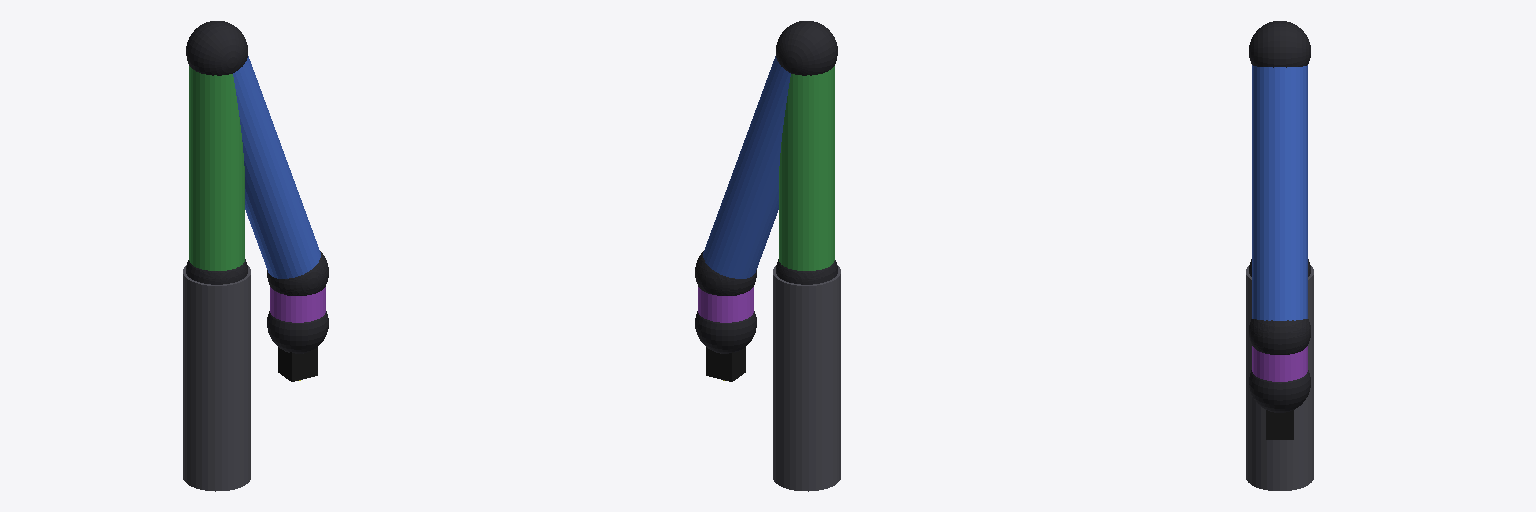
robot.urdf — uf850_primitive:
<?xml version="1.0"?>
<robot name="uf850_primitive">
  <link name="link_base">
    <visual><origin xyz="0.0000 0.0000 0.1820" rpy="0 0.0000 0.0000"/><geometry><cylinder radius="0.0550" length="0.3640"/></geometry><material name="seg"><color rgba="0.35 0.35 0.38 1"/></material></visual>
    <collision><origin xyz="0.0000 0.0000 0.1820" rpy="0 0.0000 0.0000"/><geometry><cylinder radius="0.0550" length="0.3640"/></geometry></collision>
    <inertial><mass value="0.5"/><inertia ixx="0.002" iyy="0.002" izz="0.002" ixy="0" ixz="0" iyz="0"/></inertial>
  </link>
  <joint name="joint1" type="revolute">
    <parent link="link_base"/><child link="link1"/>
    <origin xyz="0.0000 0.0000 0.3640" rpy="0.0000 0.0000 0.0000"/>
    <axis xyz="0 0 1"/>
    <limit lower="-3.11018" upper="3.11018" effort="200" velocity="3.14"/>
  </joint>
  <link name="link1">
    <visual><geometry><sphere radius="0.0500"/></geometry><material name="knk"><color rgba="0.2 0.2 0.22 1"/></material></visual>
    <inertial><mass value="0.5"/><inertia ixx="0.002" iyy="0.002" izz="0.002" ixy="0" ixz="0" iyz="0"/></inertial>
  </link>
  <joint name="joint2" type="revolute">
    <parent link="link1"/><child link="link2"/>
    <origin xyz="0.0000 0.0000 0.0000" rpy="1.5708 -1.5708 0.0000"/>
    <axis xyz="0 0 1"/>
    <limit lower="-2.30383" upper="2.30383" effort="200" velocity="3.14"/>
  </joint>
  <link name="link2">
    <visual><geometry><sphere radius="0.0500"/></geometry><material name="knk"><color rgba="0.2 0.2 0.22 1"/></material></visual>
    <visual><origin xyz="0.1950 0.0000 0.0000" rpy="0 1.5708 0.0000"/><geometry><cylinder radius="0.0450" length="0.3900"/></geometry><material name="seg"><color rgba="0.30 0.65 0.35 1"/></material></visual>
    <collision><origin xyz="0.1950 0.0000 0.0000" rpy="0 1.5708 0.0000"/><geometry><cylinder radius="0.0450" length="0.3900"/></geometry></collision>
    <inertial><mass value="0.5"/><inertia ixx="0.002" iyy="0.002" izz="0.002" ixy="0" ixz="0" iyz="0"/></inertial>
  </link>
  <joint name="joint3" type="revolute">
    <parent link="link2"/><child link="link3"/>
    <origin xyz="0.3900 0.0000 0.0000" rpy="-3.1416 0.0000 -1.5708"/>
    <axis xyz="0 0 1"/>
    <limit lower="-4.22370" upper="0.06109" effort="200" velocity="3.14"/>
  </joint>
  <link name="link3">
    <visual><geometry><sphere radius="0.0500"/></geometry><material name="knk"><color rgba="0.2 0.2 0.22 1"/></material></visual>
    <visual><origin xyz="0.0750 0.2130 0.0000" rpy="0 1.5708 1.2322"/><geometry><cylinder radius="0.0450" length="0.4516"/></geometry><material name="seg"><color rgba="0.30 0.45 0.80 1"/></material></visual>
    <collision><origin xyz="0.0750 0.2130 0.0000" rpy="0 1.5708 1.2322"/><geometry><cylinder radius="0.0450" length="0.4516"/></geometry></collision>
    <inertial><mass value="0.5"/><inertia ixx="0.002" iyy="0.002" izz="0.002" ixy="0" ixz="0" iyz="0"/></inertial>
  </link>
  <joint name="joint4" type="revolute">
    <parent link="link3"/><child link="link4"/>
    <origin xyz="0.1500 0.4260 0.0000" rpy="-1.5708 0.0000 0.0000"/>
    <axis xyz="0 0 1"/>
    <limit lower="-3.11018" upper="3.11018" effort="200" velocity="3.14"/>
  </joint>
  <link name="link4">
    <visual><geometry><sphere radius="0.0500"/></geometry><material name="knk"><color rgba="0.2 0.2 0.22 1"/></material></visual>
    <inertial><mass value="0.5"/><inertia ixx="0.002" iyy="0.002" izz="0.002" ixy="0" ixz="0" iyz="0"/></inertial>
  </link>
  <joint name="joint5" type="revolute">
    <parent link="link4"/><child link="link5"/>
    <origin xyz="0.0000 0.0000 0.0000" rpy="-1.5708 0.0000 0.0000"/>
    <axis xyz="0 0 1"/>
    <limit lower="-2.16420" upper="2.16420" effort="200" velocity="3.14"/>
  </joint>
  <link name="link5">
    <visual><geometry><sphere radius="0.0500"/></geometry><material name="knk"><color rgba="0.2 0.2 0.22 1"/></material></visual>
    <visual><origin xyz="0.0000 -0.0450 0.0000" rpy="0 1.5708 -1.5708"/><geometry><cylinder radius="0.0450" length="0.0900"/></geometry><material name="seg"><color rgba="0.65 0.35 0.80 1"/></material></visual>
    <collision><origin xyz="0.0000 -0.0450 0.0000" rpy="0 1.5708 -1.5708"/><geometry><cylinder radius="0.0450" length="0.0900"/></geometry></collision>
    <inertial><mass value="0.5"/><inertia ixx="0.002" iyy="0.002" izz="0.002" ixy="0" ixz="0" iyz="0"/></inertial>
  </link>
  <joint name="joint6" type="revolute">
    <parent link="link5"/><child link="link6"/>
    <origin xyz="0.0000 -0.0900 0.0000" rpy="1.5708 0.0000 0.0000"/>
    <axis xyz="0 0 1"/>
    <limit lower="-3.11018" upper="3.11018" effort="200" velocity="3.14"/>
  </joint>
  <link name="link6">
    <visual><geometry><sphere radius="0.0500"/></geometry><material name="knk"><color rgba="0.2 0.2 0.22 1"/></material></visual>
    <inertial><mass value="0.5"/><inertia ixx="0.002" iyy="0.002" izz="0.002" ixy="0" ixz="0" iyz="0"/></inertial>
  </link>
  <joint name="tool_mount" type="fixed">
    <parent link="link6"/><child link="extruder"/>
    <origin xyz="0 0 0" rpy="0.0000 0.0000 0.0000"/>
  </joint>
  <link name="extruder">
    <visual><origin xyz="0 0 0.0450"/><geometry><box size="0.05 0.045 0.0900"/></geometry><material name="ext"><color rgba="0.15 0.15 0.15 1"/></material></visual>
    <inertial><mass value="0.5"/><inertia ixx="0.002" iyy="0.002" izz="0.002" ixy="0" ixz="0" iyz="0"/></inertial>
  </link>
  <joint name="nozzle" type="fixed">
    <parent link="extruder"/><child link="tool_tip"/>
    <origin xyz="0 0 0.1000" rpy="0 0 0"/>
  </joint>
  <link name="tool_tip">
    <visual><origin xyz="0 0 -0.012"/><geometry><cylinder radius="0.006" length="0.024"/></geometry><material name="noz"><color rgba="0.9 0.9 0.2 1"/></material></visual>
    <inertial><mass value="0.05"/><inertia ixx="1e-5" iyy="1e-5" izz="1e-5" ixy="0" ixz="0" iyz="0"/></inertial>
  </link>
</robot>

--- What the picture shows (computed from the rendered views, not written in the file) ---
3 views of the same robot in one strip: view 1: azimuth 30°, elevation 25°; view 2: azimuth 150°, elevation 25°; view 3: azimuth 270°, elevation 25° (orthographic).
Model uf850_primitive with 9 links and 8 joints (6 revolute, 2 fixed), rooted at link_base, posed every joint at zero.
Visible links, largest first — view 1: link_base, link3, link2, link5, link6, extruder; view 2: link_base, link3, link2, link5, link6, extruder; view 3: link3, link_base, link5, link6, link4, extruder.
Link boxes in pixels (x1,y1,x2,y2): link_base: (183,265,250,491); link3: (186,21,320,278); link2: (186,66,247,284); link5: (267,251,328,322); link6: (267,311,328,353); extruder: (278,347,317,381); link_base: (773,265,840,491); link3: (703,21,837,278); link2: (776,66,837,284); link5: (695,251,756,322); link6: (695,311,756,353); extruder: (706,347,745,381); link3: (1249,21,1310,320); link_base: (1246,266,1313,490); link5: (1249,319,1310,381); link6: (1249,370,1310,412); link4: (1250,319,1309,354); extruder: (1266,410,1293,439).
Bounding box of the posed robot: 0.255 × 0.11 × 0.804 m (x, y, z).
Geometry: primitives only (box / cylinder / sphere), no mesh files.
